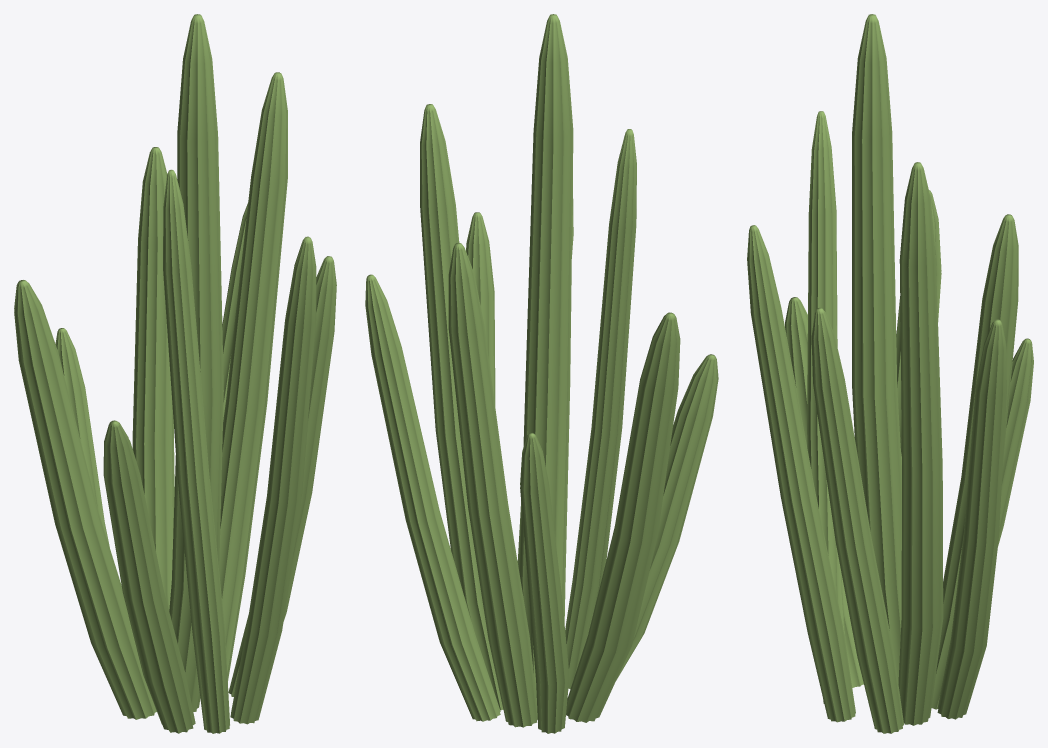
Rendered from cactus.fbx.
The picture shows the model from 3 angles, left to right: view 1: azimuth 30°, elevation 25°; view 2: azimuth 150°, elevation 25°; view 3: azimuth 270°, elevation 25°; orthographic projection. The views are drawn at different scales.
Parts seen in each view (by area): view 1: pipe8, pipe1, pipe7, pipe4, pipe10, pipe5, pipe2, pipe9, pipe6, pipe3; view 2: pipe7, pipe5, pipe1, pipe3, pipe4, pipe8, pipe6, pipe2, pipe9; view 3: pipe7, pipe8, pipe10, pipe9, pipe3, pipe4, pipe5, pipe6, pipe2, pipe1.
Part boxes in pixels (box(x1,y1,x2,y2)): pipe8: box(219, 72, 287, 681); pipe1: box(14, 280, 156, 719); pipe7: box(169, 14, 223, 711); pipe4: box(163, 169, 229, 733); pipe10: box(230, 236, 316, 724); pipe5: box(132, 147, 174, 610); pipe2: box(103, 420, 195, 733); pipe9: box(228, 256, 336, 696); pipe6: box(55, 328, 109, 547); pipe3: box(222, 202, 248, 421); pipe7: box(519, 14, 573, 699); pipe5: box(448, 242, 537, 727); pipe1: box(566, 312, 680, 722); pipe3: box(365, 274, 500, 721); pipe4: box(565, 129, 636, 688); pipe8: box(420, 104, 503, 710); pipe6: box(520, 433, 569, 733); pipe2: box(616, 354, 718, 680); pipe9: box(466, 212, 495, 405); pipe7: box(852, 14, 901, 683); pipe8: box(898, 162, 943, 725); pipe10: box(747, 225, 855, 722); pipe9: box(811, 307, 903, 733); pipe3: box(937, 319, 1006, 719); pipe4: box(807, 111, 845, 703); pipe5: box(931, 214, 1018, 709); pipe6: box(998, 338, 1033, 545); pipe2: box(785, 297, 863, 687); pipe1: box(896, 190, 941, 464).
Size of the model in its own units: 1185 by 2798 by 1057.
